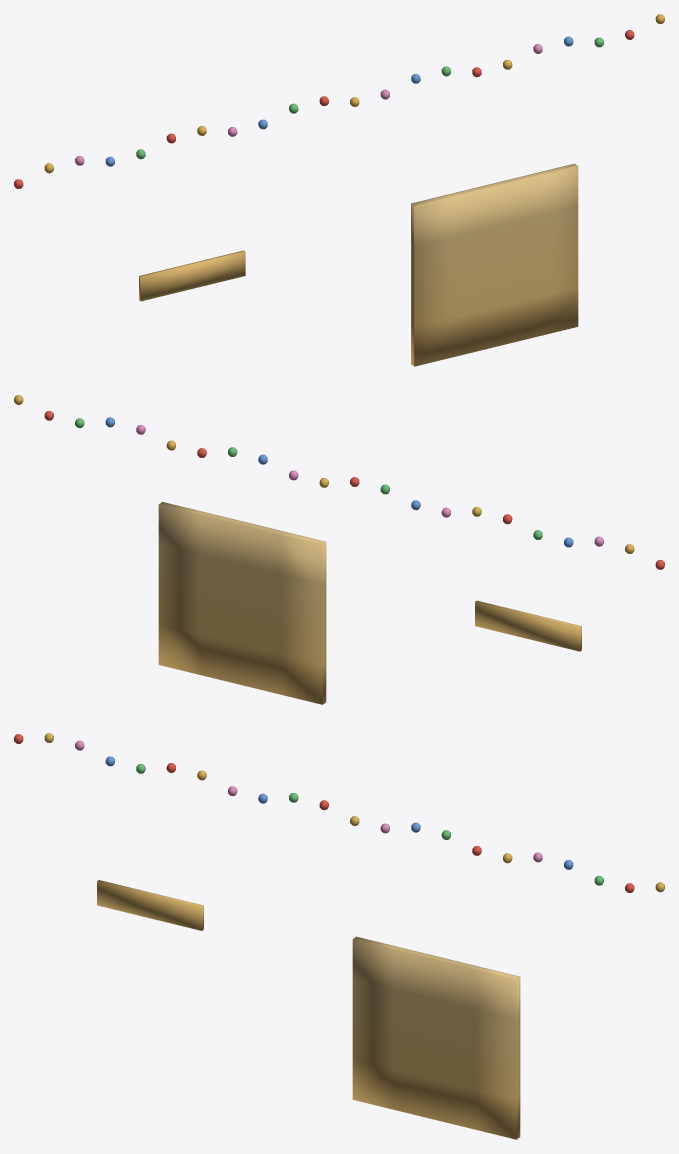
The model's file is Xmas_CottageWindow.fbx.
The picture shows the model from 3 angles, top to bottom: view 1: azimuth 30°, elevation 25°; view 2: azimuth 150°, elevation 25°; view 3: azimuth 330°, elevation 25°; orthographic projection.
Visible parts, largest first — view 1: Xmas_CottageWindow; view 2: Xmas_CottageWindow; view 3: Xmas_CottageWindow.
Part boxes in pixels (bbox=[...]): Xmas_CottageWindow: bbox=[14, 14, 664, 366]; Xmas_CottageWindow: bbox=[14, 395, 664, 704]; Xmas_CottageWindow: bbox=[14, 733, 664, 1139].
Size of the model in its own units: 61.89 by 23.83 by 5.5.
